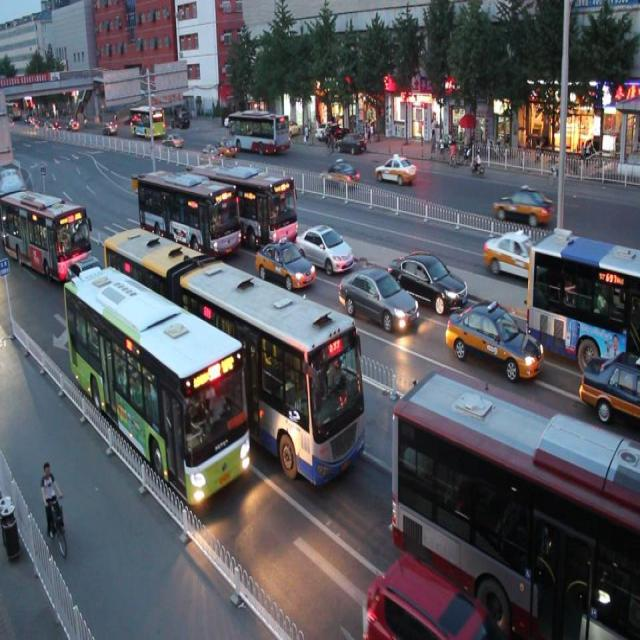car: (362, 550, 498, 640), (446, 294, 544, 382), (337, 258, 416, 331), (390, 243, 468, 309), (481, 226, 556, 291), (579, 347, 640, 417), (253, 230, 314, 289), (294, 214, 352, 273), (67, 254, 114, 306)
van: (102, 218, 366, 482), (392, 374, 640, 640), (64, 270, 250, 504), (527, 229, 640, 366), (136, 160, 240, 262), (191, 153, 298, 248), (1, 182, 90, 272)
